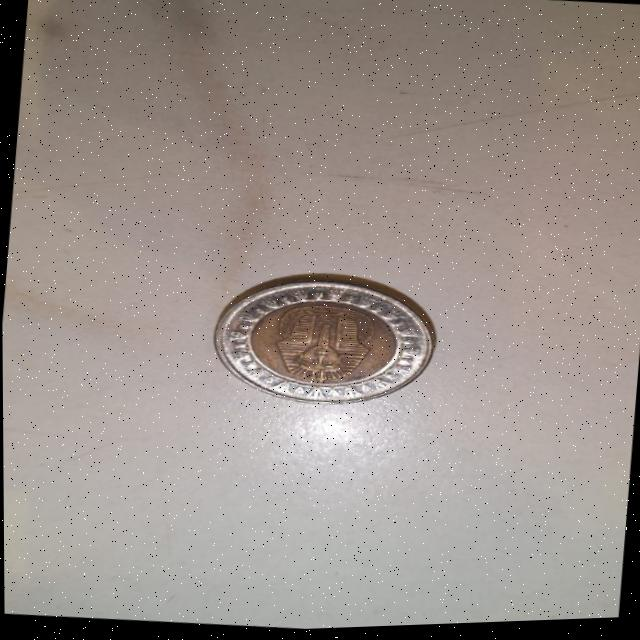One Pound: (192, 238, 450, 440)
